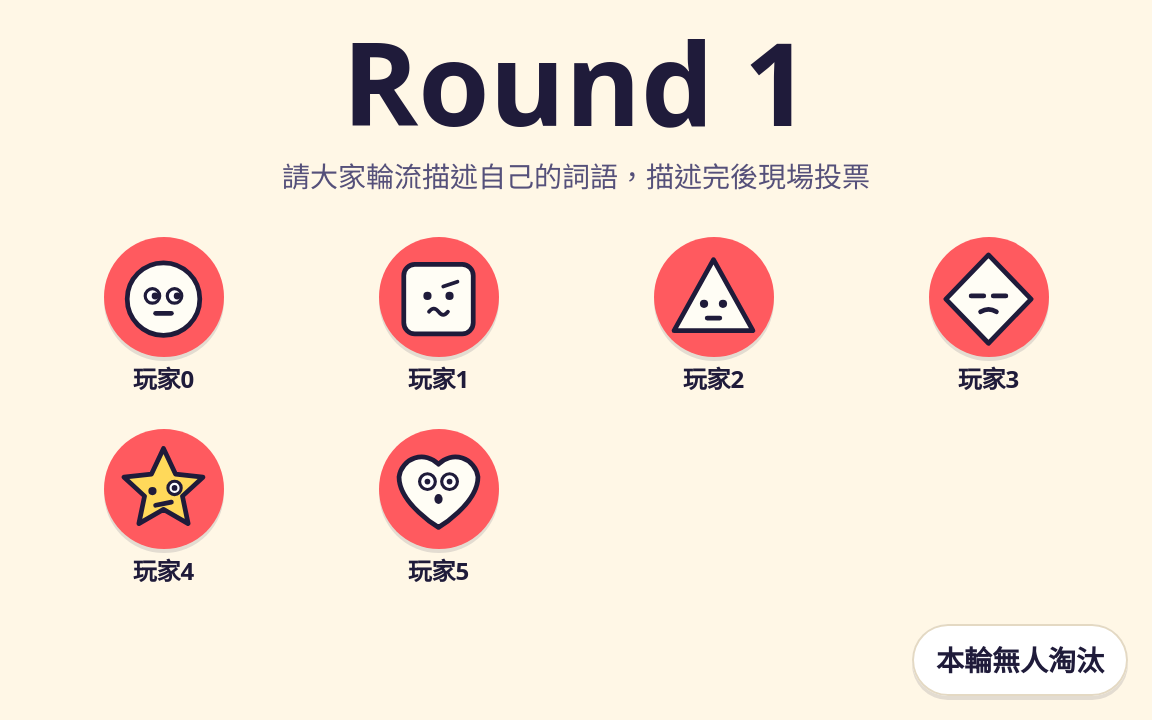
Scenario: skip round › toasts and closes when the round was already over
The width and height of the screenshot is (1152, 720).
Expected: the heading "Round 1" is shown, [342,24,810,139]
Click the button "本輪無人淘汰" at (1020, 660), box [912,624,1128,696]
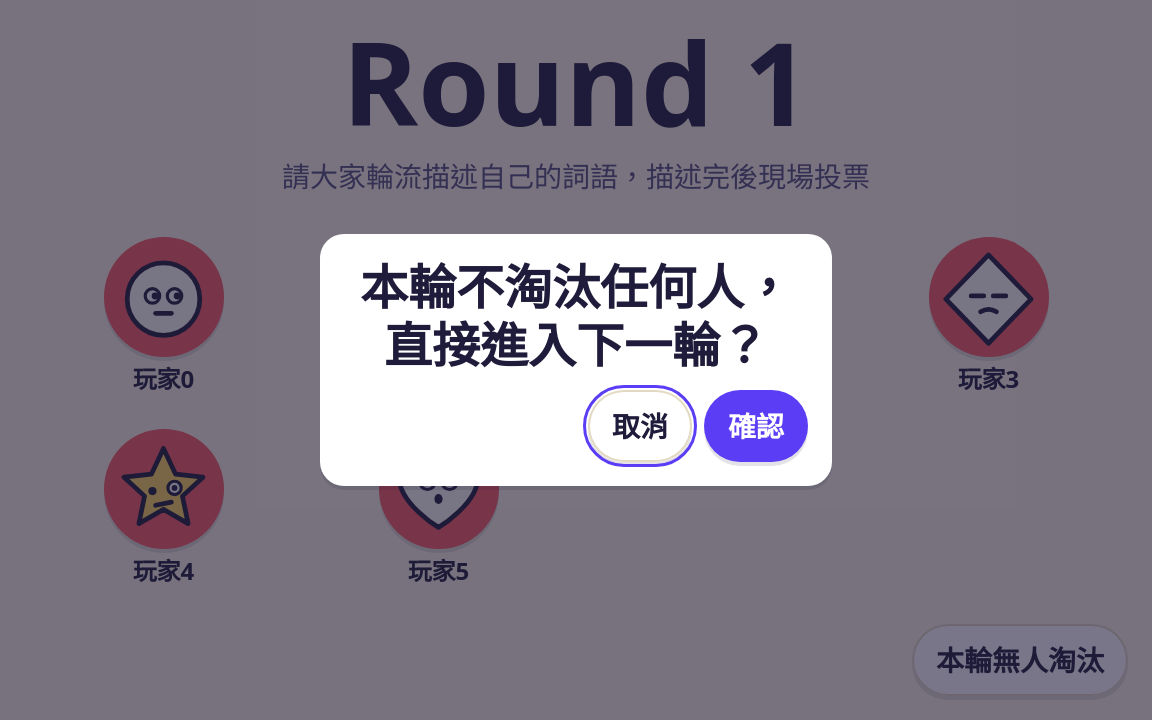
Click the button "確認" at (756, 426), box [704,390,808,462]
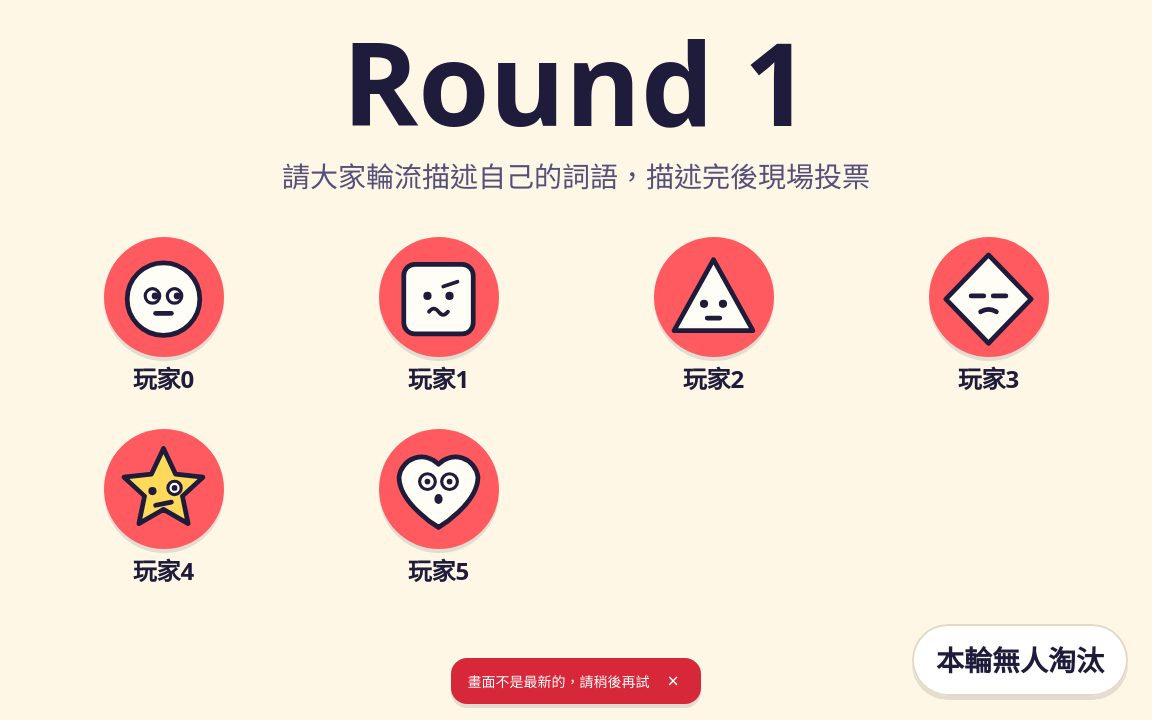
Expected: the dialog is gone
Expected: the text "畫面不是最新的，請稍後再試" is shown, [467,671,649,691]
